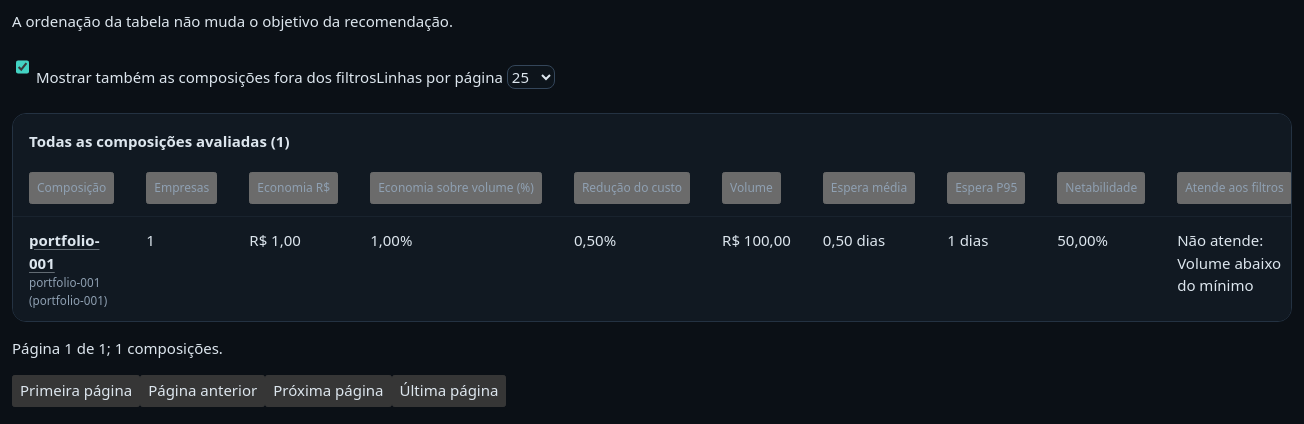
Test case: clears and announces a selection when its filtered row is hidden
This screenshot has width=1304, height=424.
What coordinates should you click on to do the following:
click the checkbox labelled "Mostrar também as composições fora dos filtros"
I would click on:
 (22, 66)
Its box is [16,50,29,82].
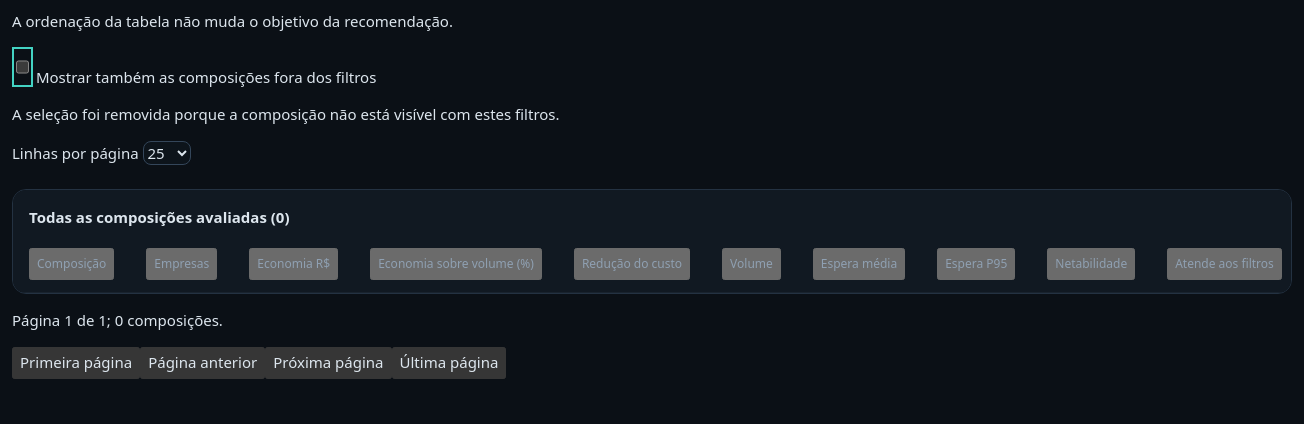
Check: the message reads "A seleção foi removida porque a composição não está visível com estes filtros.", box [12,104,560,124]
